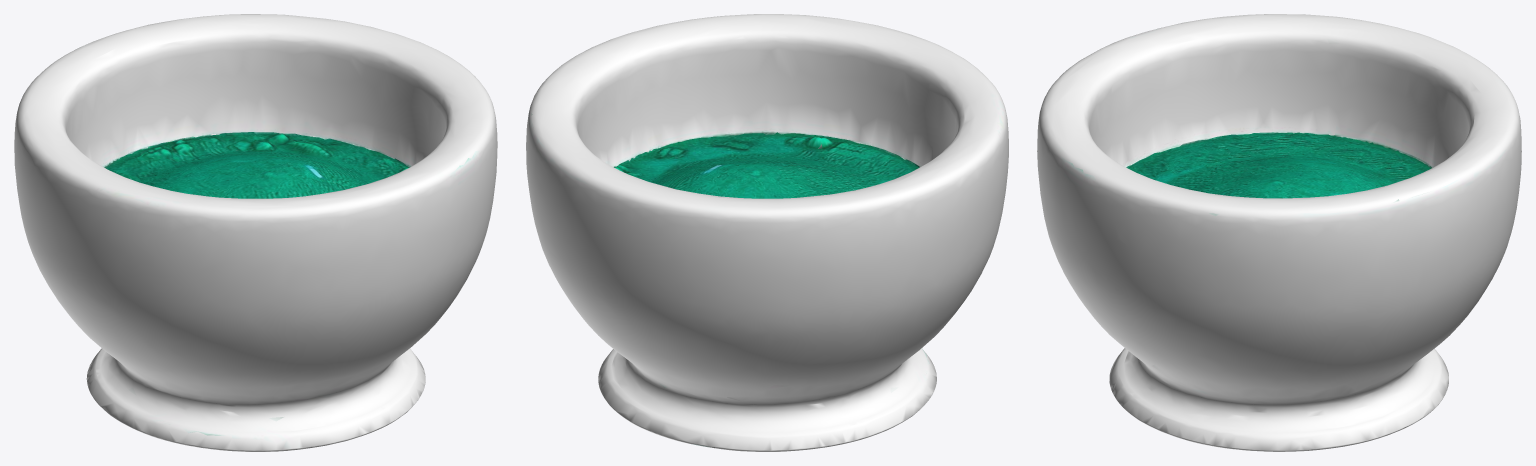
Rendered from mortar.glb.
3 views of the same model, side by side, from view 1: azimuth 30°, elevation 25°; view 2: azimuth 150°, elevation 25°; view 3: azimuth 270°, elevation 25° (orthographic).
Visible parts, largest first — view 1: hz_mortar2; view 2: hz_mortar2; view 3: hz_mortar2.
Part boxes in pixels (box(x1,y1,x2,y2)): hz_mortar2: box(14, 14, 497, 451); hz_mortar2: box(526, 14, 1008, 451); hz_mortar2: box(1037, 14, 1521, 451).
Size of the model in its own units: 0.9989 by 0.6153 by 1.
1 material, 1 textured.
